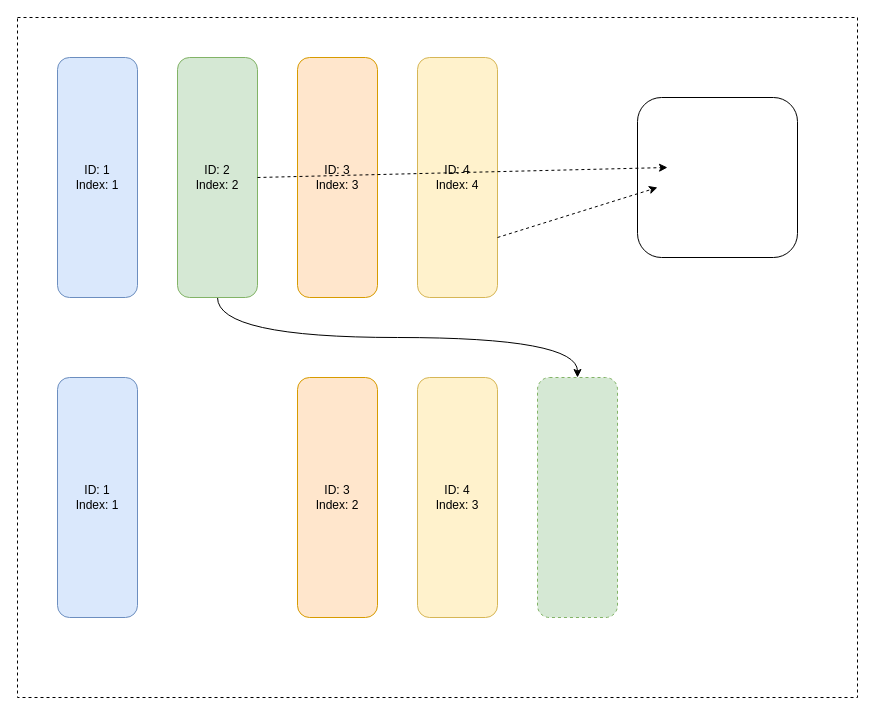
The diagram is 875 pixels wide and 715 high, and some of its shapes have lost their labels. Each missing label, with the box of its shape:
ID: 2 Index: 4: (536, 376, 618, 618)
{ "columnID": 2, "nextOfIndex": 4 }: (636, 96, 798, 258)
